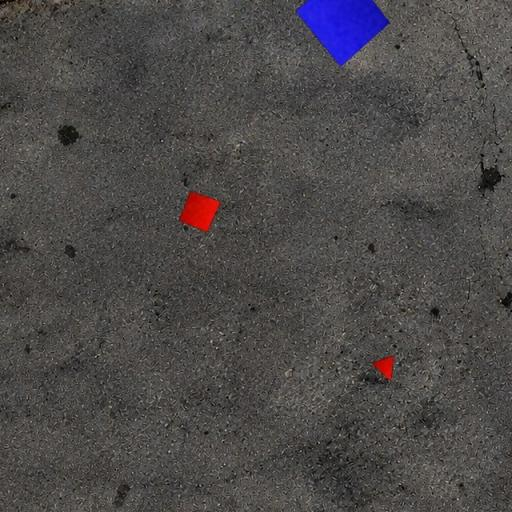BLUE_SQUARE: (294, 0, 390, 68)
RED_SQUARE: (178, 190, 222, 233)
